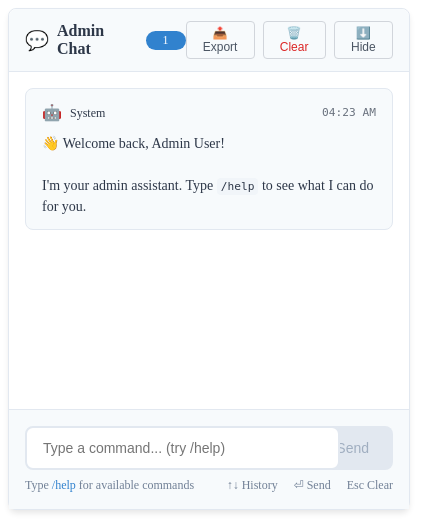
Test: ChatPanel Component › Command Execution › should handle command execution errors
The width and height of the screenshot is (427, 531).
Type "/error-command" into the field with placeholder "Type a command... (try /help)". click: (183, 448)
box: [25,426,340,470]
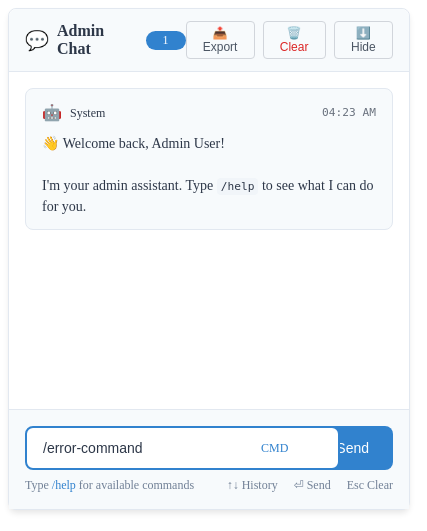
Submit the form with placeholder "Type a command... (try /help)", box [25,426,393,470]
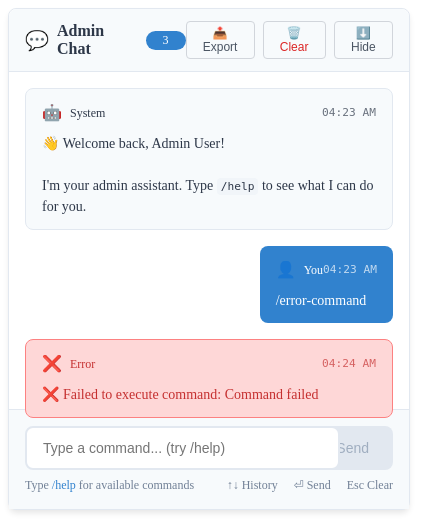
Expected: the text "❌ Failed to execute command: Command failed" is shown, [42,387,318,402]
